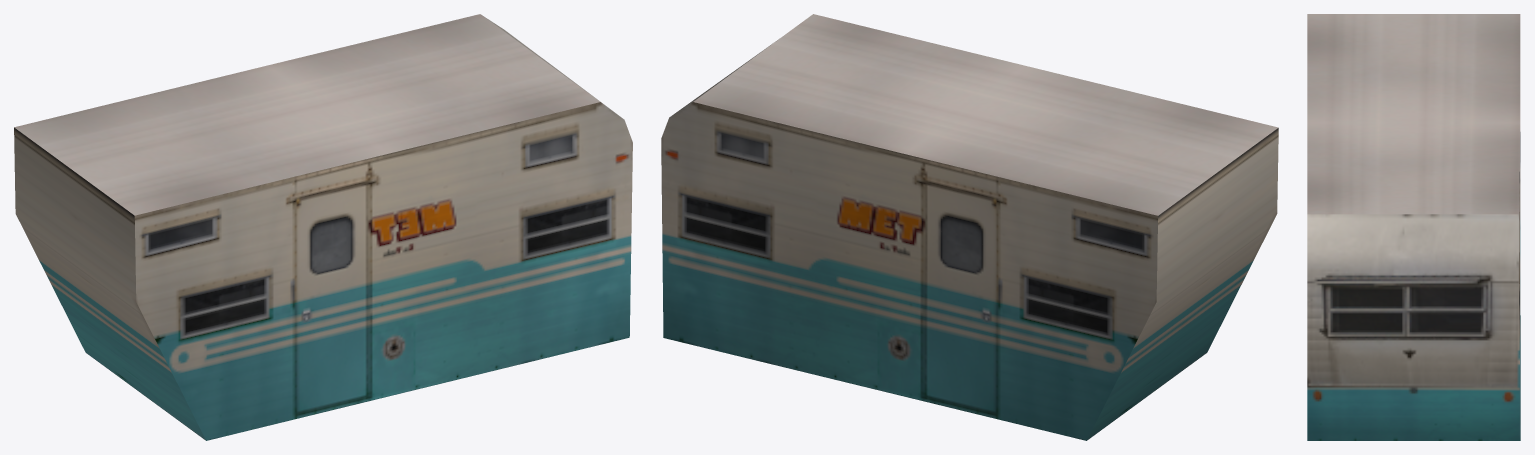
Rendered from trailer1.fbx.
The picture shows the model from 3 angles, left to right: view 1: azimuth 30°, elevation 25°; view 2: azimuth 150°, elevation 25°; view 3: azimuth 270°, elevation 25°; orthographic projection. The views are drawn at different scales.
Visible parts, largest first — view 1: trailer01; view 2: trailer01; view 3: trailer01.
Part boxes in pixels (left/top/right/bottom): trailer01: left=14, top=14, right=632, bottom=440; trailer01: left=661, top=14, right=1278, bottom=440; trailer01: left=1307, top=14, right=1520, bottom=440.
Size of the model in its own units: 552 by 257 by 232.
1 material, 1 textured.
